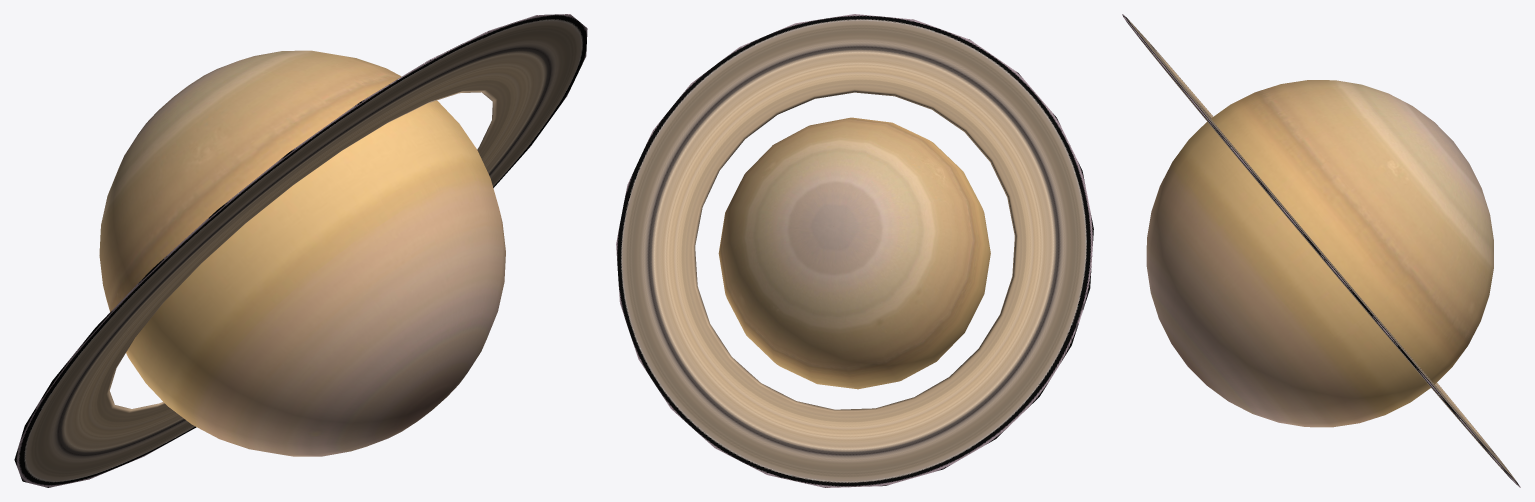
File: Sartunus.fbx
3 views of the same model, side by side, from view 1: azimuth 30°, elevation 25°; view 2: azimuth 150°, elevation 25°; view 3: azimuth 270°, elevation 25° (orthographic). The views are drawn at different scales.
Parts seen in each view (by area): view 1: pSphere8, pTorus1; view 2: pTorus1, pSphere8; view 3: pSphere8, pTorus1.
Boxes of the visible parts, bbox=[...] form: pSphere8: bbox=[99, 50, 505, 456]; pTorus1: bbox=[14, 14, 587, 487]; pTorus1: bbox=[616, 14, 1093, 487]; pSphere8: bbox=[718, 117, 990, 389]; pSphere8: bbox=[1146, 80, 1493, 427]; pTorus1: bbox=[1122, 14, 1520, 487].
Size of the model in its own units: 9.44 by 7.94 by 6.32.
Materials: 2 (2 with a texture image).
